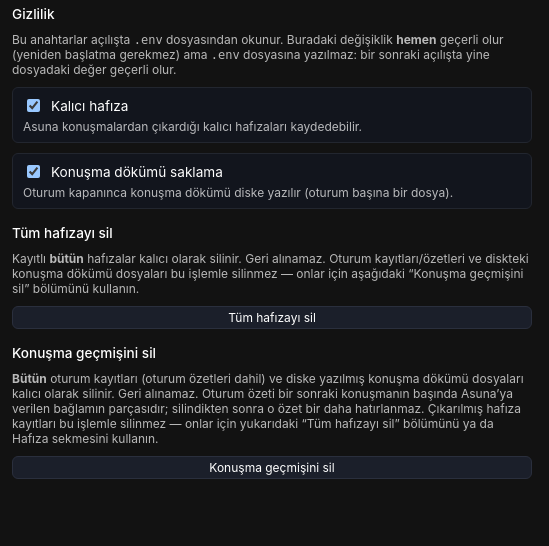
it: SettingsView — konusma gecmisini sil › cift onay ister ve silinen sayilari yazar
The image size is (549, 546).
Click the button "Konuşma geçmişini sil" at (272, 468), box [12, 456, 532, 479]
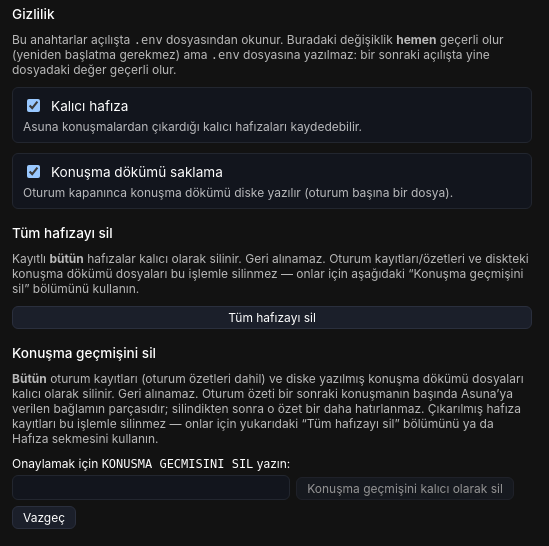
expect the button "Konuşma geçmişini kalıcı olarak sil" is disabled: met, box [296, 477, 514, 500]
Type "TUM HAFIZAYI SIL" into the field at (151, 488), box [12, 475, 290, 500]
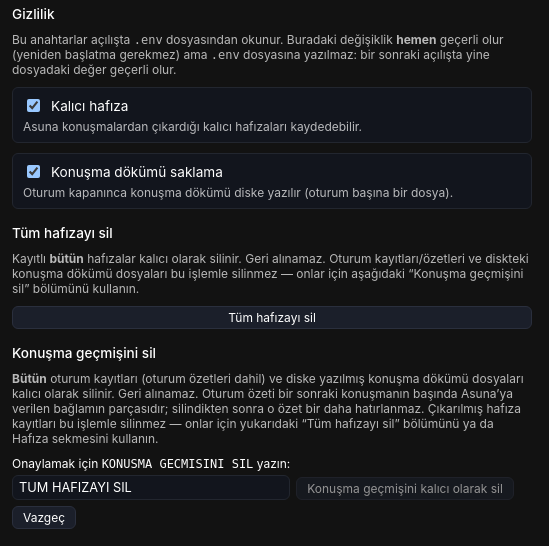
expect the button "Konuşma geçmişini kalıcı olarak sil" is disabled: met, box [296, 477, 514, 500]
Replace the text in the field with "KONUSMA GECMISINI SIL" at (151, 488), box [12, 475, 290, 500]
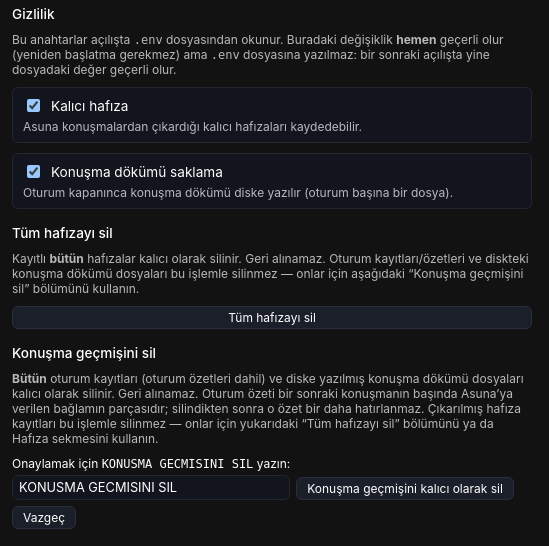
expect the button "Konuşma geçmişini kalıcı olarak sil" is enabled: met
Click the button "Konuşma geçmişini kalıcı olarak sil" at (405, 488), box [296, 477, 514, 500]
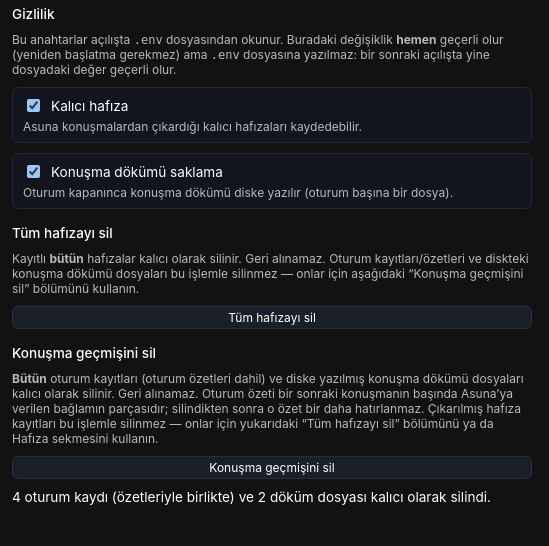
expect the message reads "4 oturum kaydı (özetleriyle birlikte) ve 2 döküm dosyası kalıcı olarak silindi.": met, box [12, 489, 491, 505]
